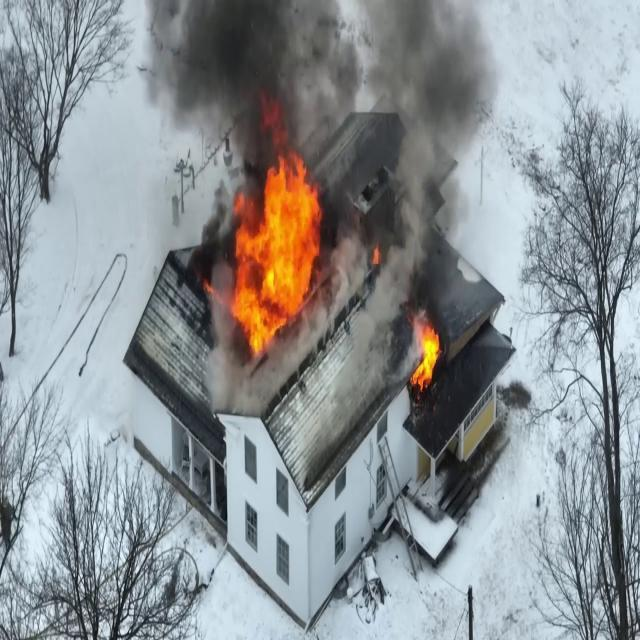Fire: (225, 147, 330, 360), (406, 310, 444, 398)
Smoke: (368, 1, 508, 316), (140, 0, 350, 164)
